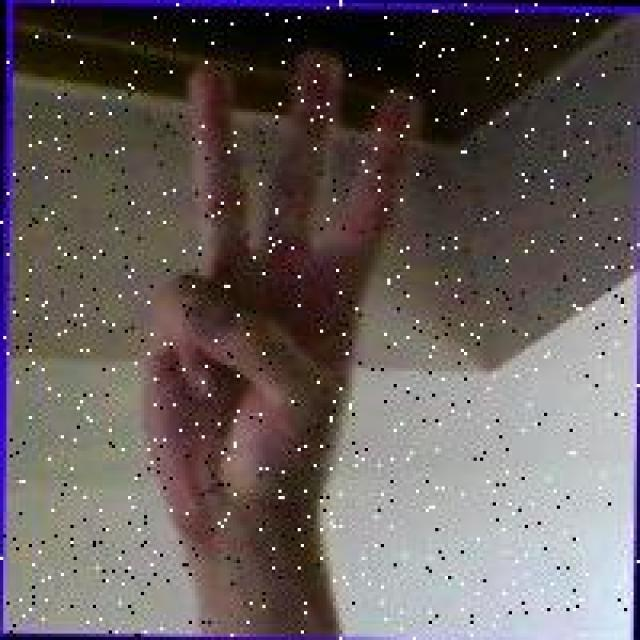W: (131, 37, 426, 542)
